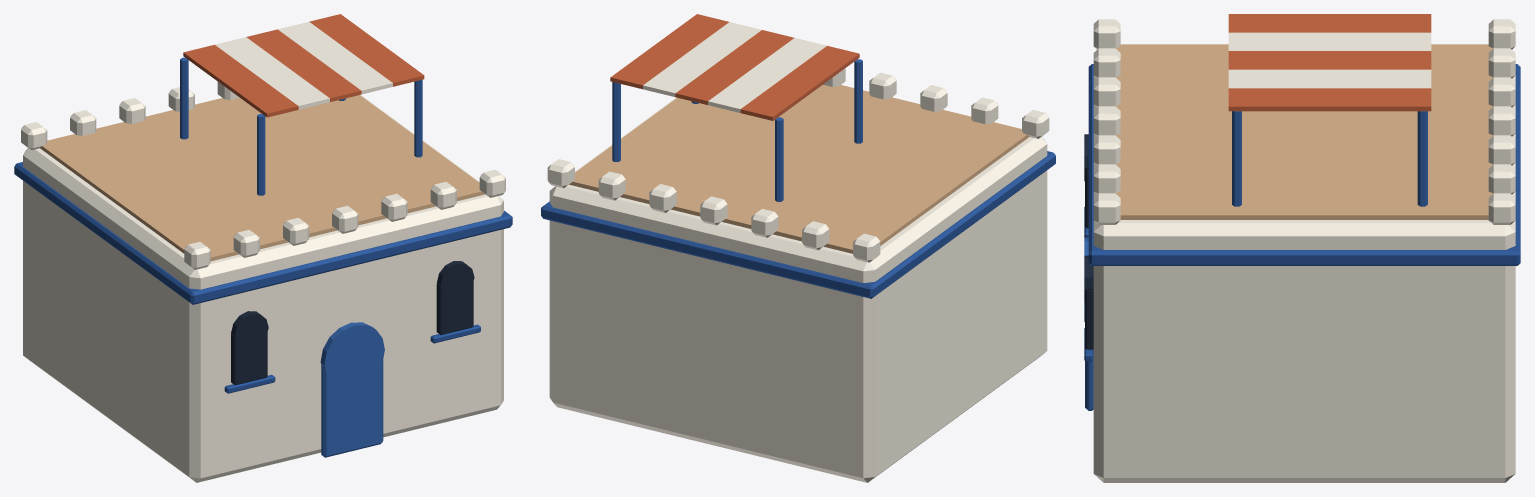
File: house_south_1.glb
The picture shows the model from 3 angles, left to right: view 1: azimuth 30°, elevation 25°; view 2: azimuth 150°, elevation 25°; view 3: azimuth 270°, elevation 25°; orthographic projection. The views are drawn at different scales.
Visible parts, largest first — view 1: body, deck, band, door, Cylinder, awning0, awning2, awning1, awning3, awning4, win_0.85, win_-0.85 (+15 smaller); view 2: body, deck, band, awning0, awning4, awning1, awning2, awning3, post_-0.25_-0.4, post_-0.25_0.7, post_1.05_0.7, cren_6_1.17 (+10 smaller); view 3: body, deck, band, awning4, awning3, awning0, awning2, awning1, post_1.05_0.7, post_1.05_-0.4, cren_6_-1.17, cren_6_1.17 (+14 smaller).
Boxes of the visible parts, <box> form: body: <box>23,95,503,482</box>; deck: <box>40,95,484,261</box>; band: <box>14,162,512,304</box>; door: <box>321,360,383,457</box>; Cylinder: <box>320,322,384,389</box>; awning0: <box>183,44,298,117</box>; awning2: <box>246,29,361,101</box>; awning1: <box>215,37,329,109</box>; awning3: <box>278,22,392,94</box>; awning4: <box>309,14,424,86</box>; win_0.85: <box>436,282,473,334</box>; win_-0.85: <box>231,333,267,385</box>; body: <box>549,97,1047,482</box>; deck: <box>569,85,1029,253</box>; band: <box>541,151,1055,298</box>; awning0: <box>740,45,859,120</box>; awning4: <box>610,14,728,89</box>; awning1: <box>708,38,826,112</box>; awning2: <box>675,30,794,104</box>; awning3: <box>643,22,761,96</box>; post_-0.25_-0.4: <box>854,59,862,143</box>; post_-0.25_0.7: <box>775,117,783,201</box>; post_1.05_0.7: <box>612,82,620,161</box>; cren_6_1.17: <box>547,159,574,188</box>; body: <box>1093,75,1515,482</box>; deck: <box>1116,44,1493,219</box>; band: <box>1088,64,1520,265</box>; awning4: <box>1228,88,1431,111</box>; awning3: <box>1228,69,1431,88</box>; awning0: <box>1228,14,1431,32</box>; awning2: <box>1228,51,1431,69</box>; awning1: <box>1228,32,1431,50</box>; post_1.05_0.7: <box>1417,111,1427,206</box>; post_1.05_-0.4: <box>1232,111,1241,206</box>; cren_6_-1.17: <box>1093,193,1120,224</box>; cren_6_1.17: <box>1488,193,1515,224</box>.
Size of the model in its own units: 2.66 by 2.38 by 2.58.
